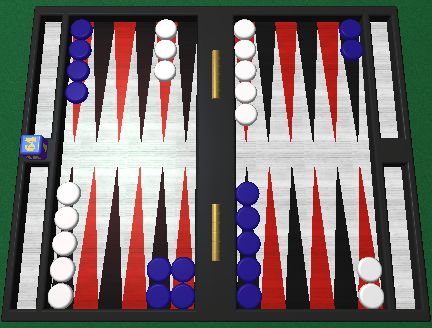bar: (196, 7, 234, 321)
checker_blue: (170, 282, 195, 308), (172, 258, 196, 282), (147, 257, 171, 281), (146, 283, 170, 307), (235, 180, 259, 204), (235, 205, 259, 229), (236, 231, 260, 255), (236, 257, 260, 281), (237, 284, 261, 308), (338, 16, 362, 39), (340, 40, 364, 61), (65, 80, 87, 101), (66, 59, 88, 80), (68, 38, 90, 59), (70, 17, 92, 38)
checker_white: (358, 282, 384, 307), (356, 256, 382, 281), (56, 181, 80, 205), (53, 205, 77, 229), (51, 230, 75, 254), (50, 256, 74, 280), (48, 283, 72, 307), (233, 101, 257, 124), (234, 79, 258, 102), (234, 59, 256, 80), (233, 38, 255, 59), (233, 18, 255, 39), (153, 59, 175, 80), (154, 39, 176, 60), (155, 18, 177, 39)
endbox: (7, 160, 50, 311), (381, 161, 419, 309), (364, 12, 403, 140), (27, 12, 65, 139)
point: (74, 166, 99, 307), (333, 167, 356, 309), (308, 166, 331, 308), (285, 166, 308, 308), (261, 167, 284, 309), (237, 167, 260, 309), (173, 165, 196, 307), (147, 166, 170, 308), (123, 166, 146, 308), (99, 167, 122, 309), (52, 167, 74, 308), (357, 165, 378, 307), (71, 22, 93, 142), (113, 21, 135, 141), (155, 21, 177, 141), (134, 20, 156, 140), (93, 22, 113, 141), (178, 21, 198, 140), (234, 21, 254, 140), (255, 21, 275, 140), (276, 21, 296, 140), (297, 20, 317, 139), (318, 20, 338, 139), (340, 21, 360, 140)
